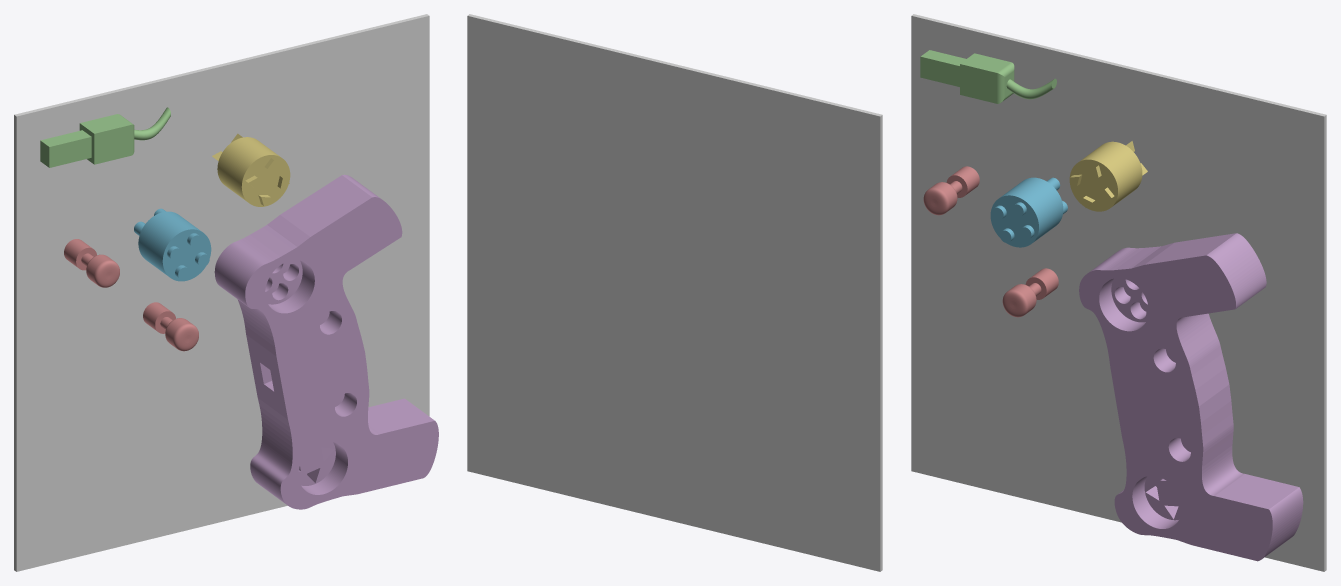
The model's file is pickup_layout.glb.
3 views of the same model, side by side, from view 1: azimuth 30°, elevation 25°; view 2: azimuth 150°, elevation 25°; view 3: azimuth 330°, elevation 25° (orthographic).
Visible parts, largest first — view 1: world, 3.obj, 4.obj, 2.obj, 1.obj, 5.obj, 0.obj; view 2: world; view 3: world, 3.obj, 4.obj, 2.obj, 1.obj, 0.obj, 5.obj.
Boxes of the visible parts, <box> form: world: <box>14,14,429,571</box>; 3.obj: <box>214,174,438,509</box>; 4.obj: <box>40,107,170,167</box>; 2.obj: <box>134,208,211,281</box>; 1.obj: <box>212,133,290,206</box>; 5.obj: <box>143,302,198,351</box>; 0.obj: <box>64,239,119,287</box>; world: <box>467,14,882,571</box>; world: <box>911,14,1326,571</box>; 3.obj: <box>1079,233,1303,561</box>; 4.obj: <box>920,50,1056,103</box>; 2.obj: <box>990,177,1067,247</box>; 1.obj: <box>1069,141,1147,211</box>; 0.obj: <box>923,166,979,215</box>; 5.obj: <box>1002,268,1058,317</box>.
Size of the model in its own units: 19.59 by 20.65 by 3.2.
